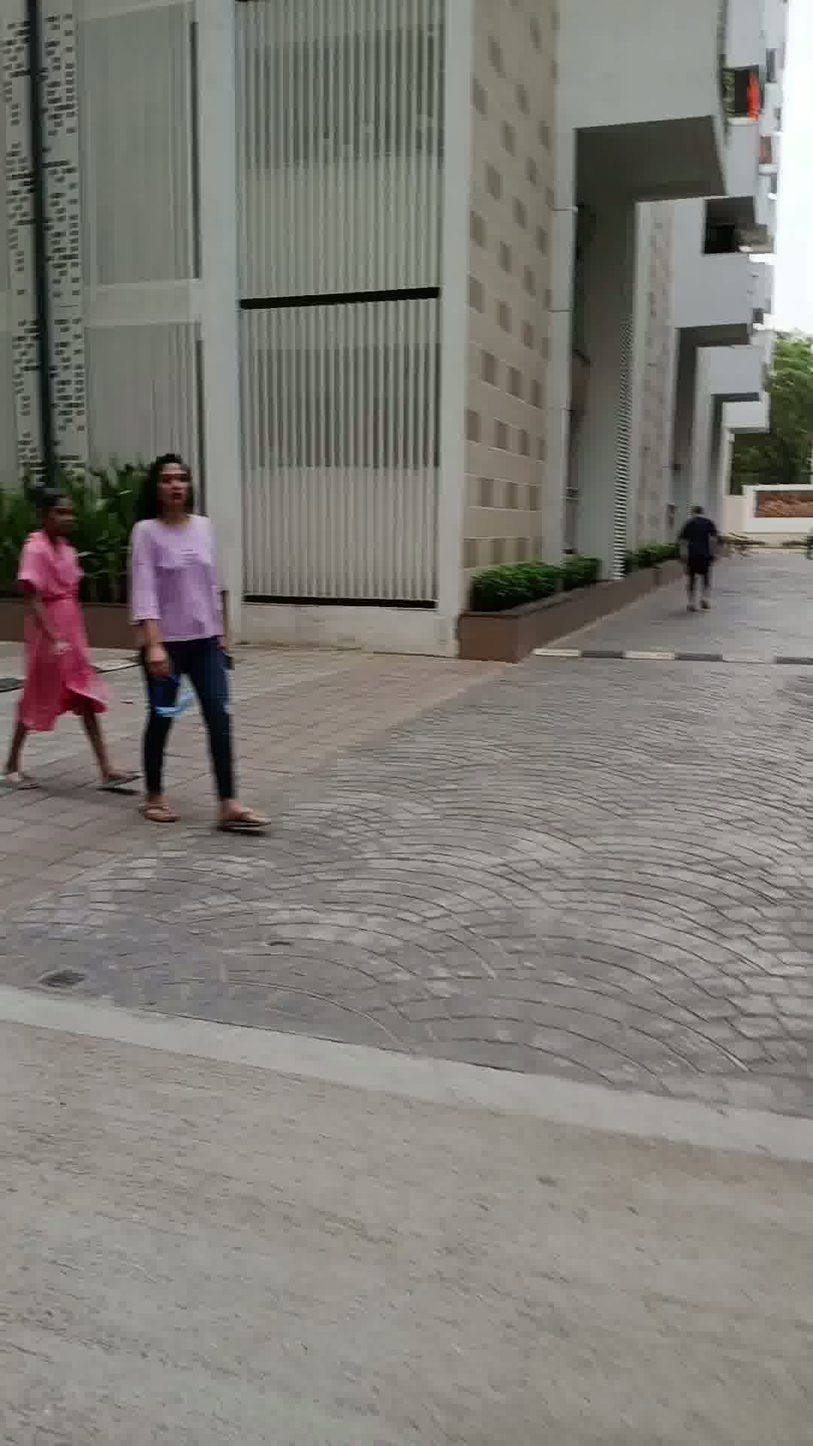person: (114, 430, 282, 857), (6, 455, 125, 814), (669, 481, 737, 615)
